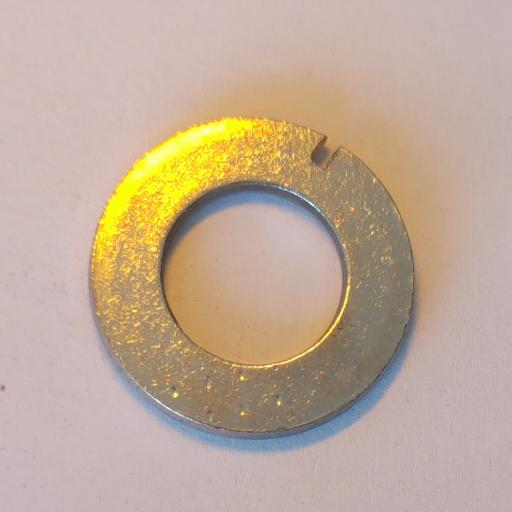burr: (310, 135, 343, 172)
